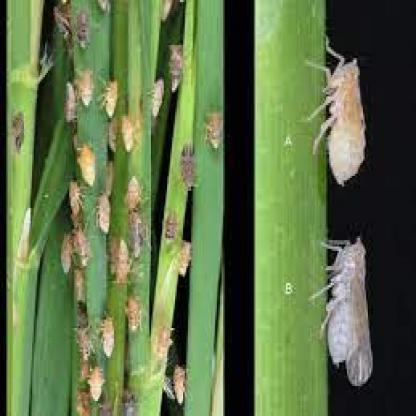brown-planthopper: (326, 240, 373, 380), (324, 53, 366, 184), (180, 146, 200, 192), (78, 146, 98, 190), (202, 110, 221, 154), (100, 318, 118, 362), (112, 240, 130, 282), (170, 44, 184, 92), (64, 79, 78, 123), (151, 80, 167, 118), (104, 78, 120, 116), (172, 368, 188, 405), (67, 180, 83, 217), (78, 67, 92, 109), (126, 174, 142, 210), (76, 5, 90, 46), (126, 297, 142, 332), (87, 368, 104, 400), (98, 196, 112, 233), (179, 242, 195, 273), (155, 328, 171, 358), (75, 233, 90, 264), (162, 214, 176, 245), (122, 116, 134, 149)
